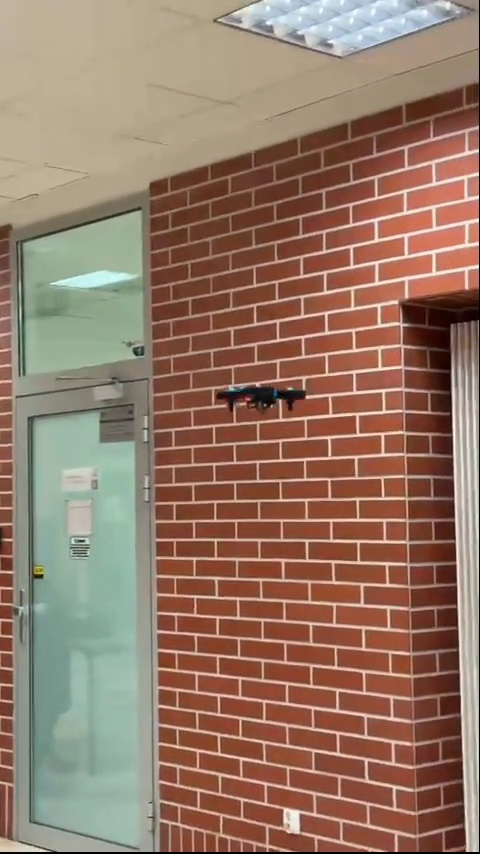drone: (219, 379, 308, 416)
